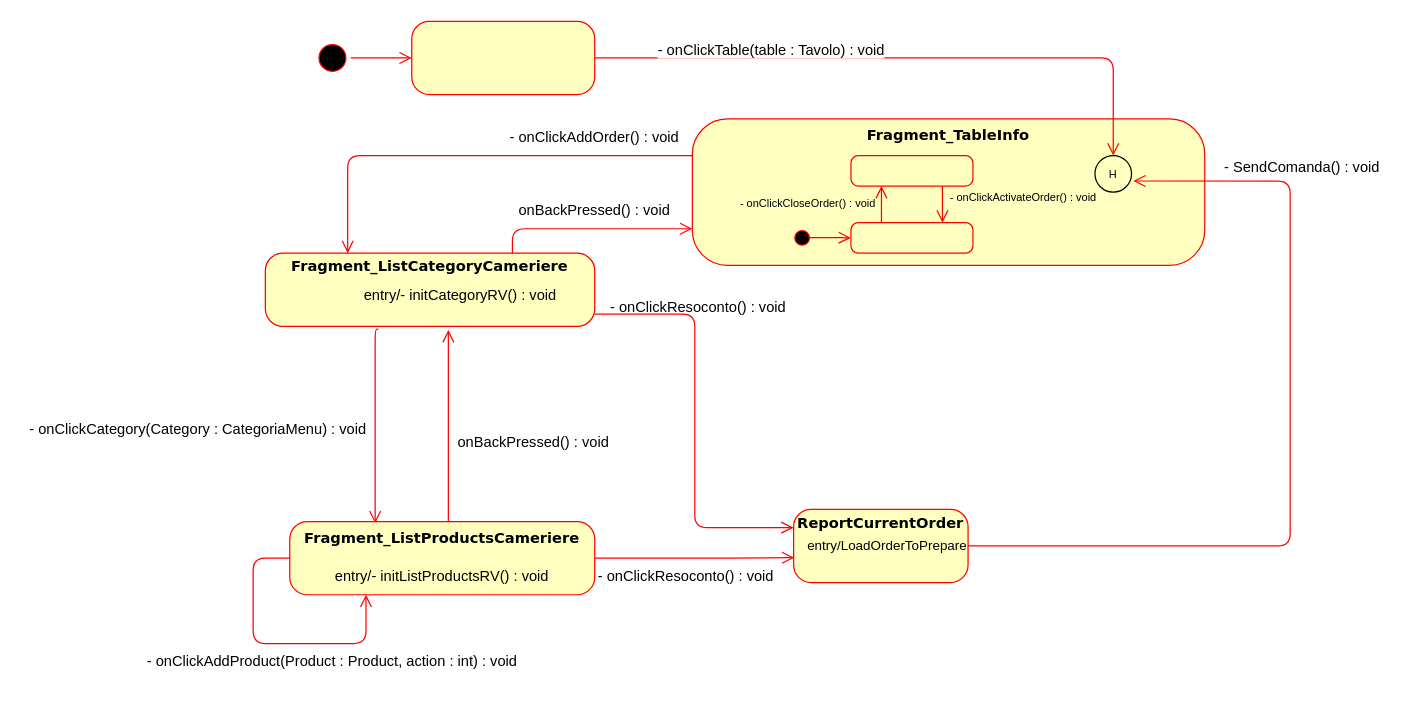
Some shapes in this 1408 by 702 pixel diagram are drawn without their labels. The centre of each missing label's shape, as x and y in pixels:
"Fragment_ListTables" goes at (x=503, y=57).
"Tavolo attivato" goes at (x=911, y=170).
"Tavolo disattivato" goes at (x=911, y=237).
